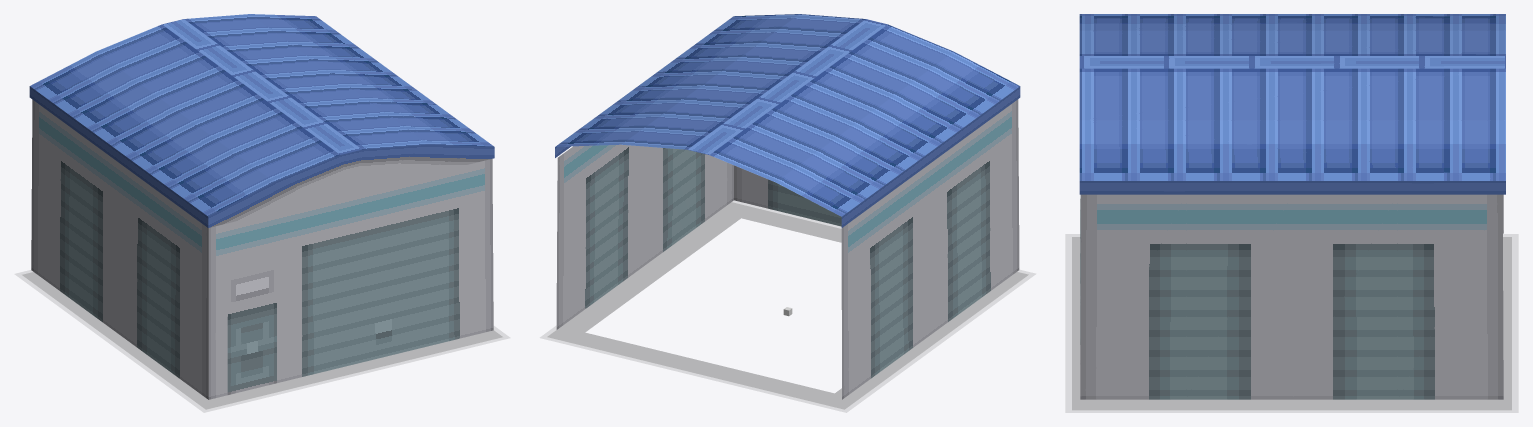
The model's file is house1.glb.
3 renders of one model, left to right at view 1: azimuth 30°, elevation 25°; view 2: azimuth 150°, elevation 25°; view 3: azimuth 270°, elevation 25°, orthographic. The views are drawn at different scales.
Visible parts, largest first — view 1: Cold Storage Warehouse 1; view 2: Cold Storage Warehouse 1; view 3: Cold Storage Warehouse 1.
Boxes of the visible parts, x1,y1,x2,y2 form: Cold Storage Warehouse 1: (22, 14, 502, 409); Cold Storage Warehouse 1: (547, 14, 1028, 409); Cold Storage Warehouse 1: (1072, 14, 1511, 410).
Bounding box in the file's own units: 112 × 79.25 × 120.
Materials: 4 (3 with a texture image).
